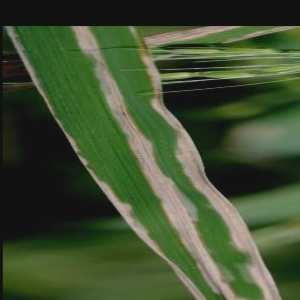Leaf_Blast: (63, 29, 186, 256)
